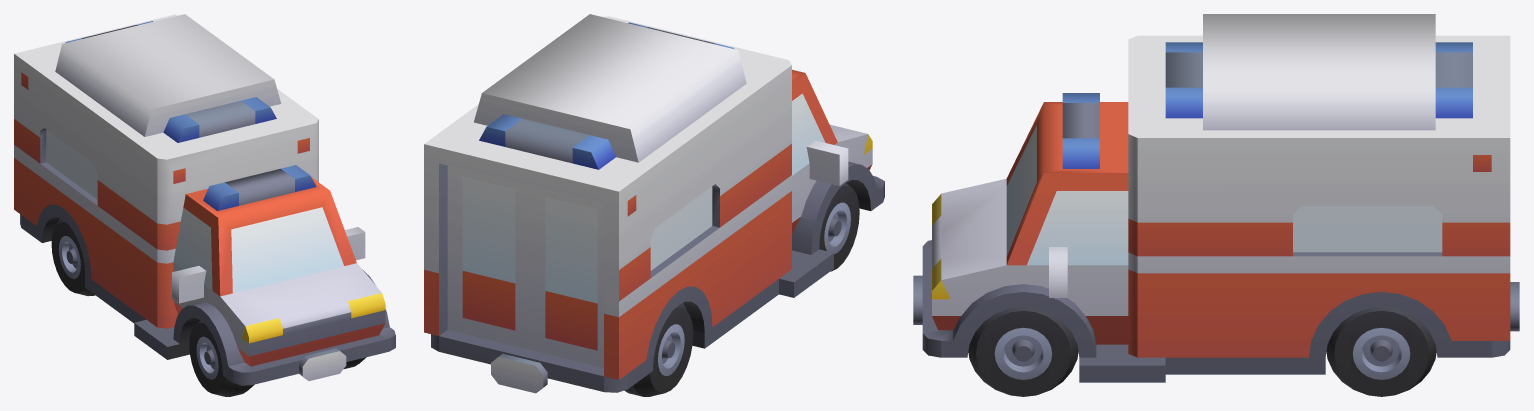
File: k-car-ambulance.glb
The picture shows the model from 3 angles, left to right: view 1: azimuth 30°, elevation 25°; view 2: azimuth 150°, elevation 25°; view 3: azimuth 270°, elevation 25°; orthographic projection. The views are drawn at different scales.
Visible parts, largest first — view 1: body, wheel-front-right, wheel-back-right; view 2: body, door-left, door-right, wheel-back-right, wheel-front-right; view 3: body, wheel-back-left, wheel-front-left.
Part boxes in pixels (x1,y1,x2,y2): body: (14,14,395,385); wheel-front-right: (189,320,254,396); wheel-back-right: (51,219,95,296); body: (424,14,884,393); door-left: (447,165,530,349); door-right: (530,186,603,367); wheel-back-right: (624,304,693,396); wheel-front-right: (819,183,859,271); body: (913,14,1519,382); wheel-back-left: (1326,307,1436,396); wheel-front-left: (968,307,1078,396).
Bounding box in the file's own units: 1.5 × 1.8 × 3.25.
1 material, 1 textured.
